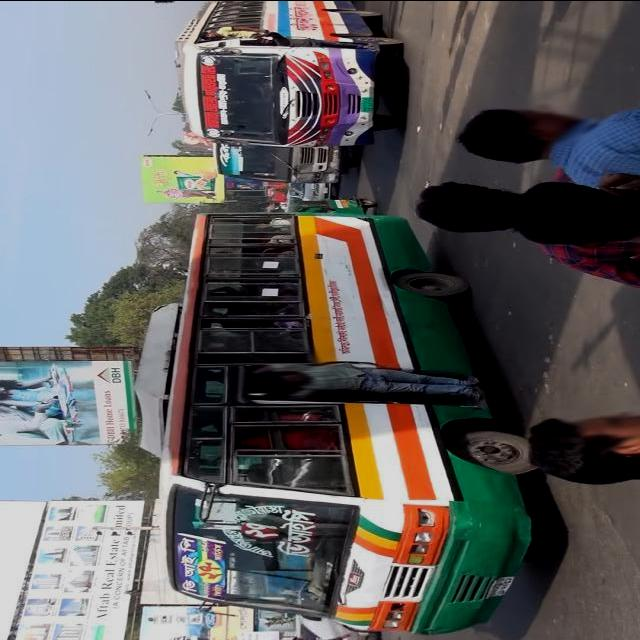bus: (133, 212, 544, 637), (175, 1, 402, 148)
